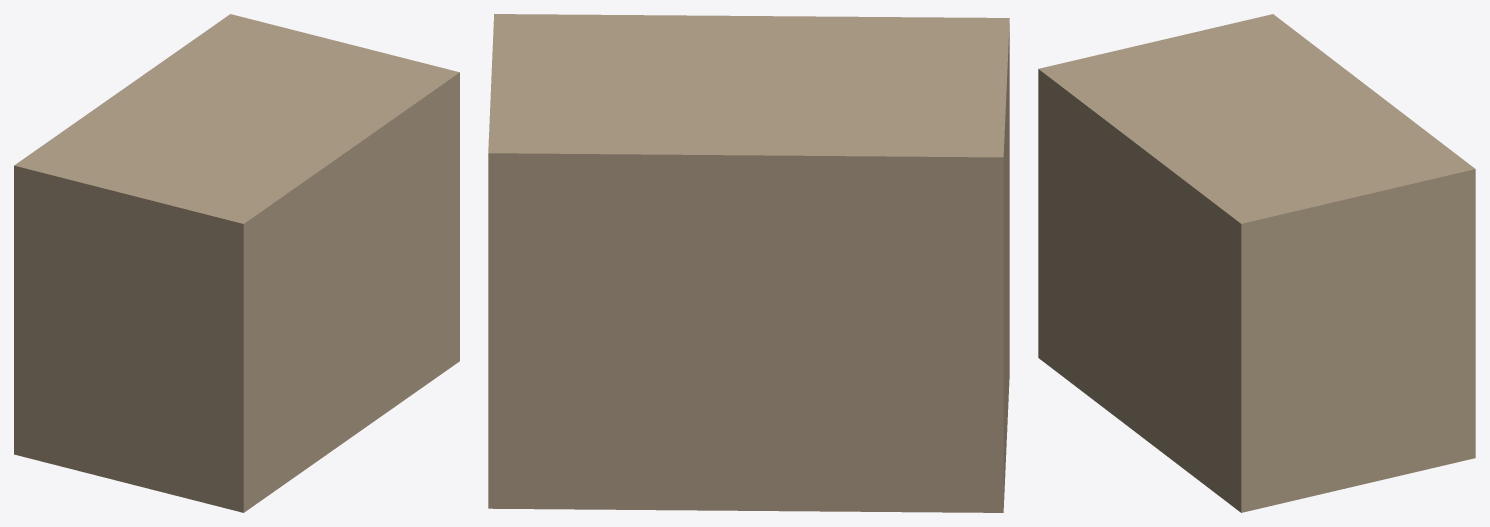
Rendered from bld_101791721.dae.
The picture shows the model from 3 angles, left to right: view 1: azimuth 30°, elevation 25°; view 2: azimuth 150°, elevation 25°; view 3: azimuth 270°, elevation 25°; orthographic projection. The views are drawn at different scales.
Parts seen in each view (by area): view 1: bld_101791721; view 2: bld_101791721; view 3: bld_101791721.
Boxes of the visible parts, x1=… form: bld_101791721: x1=14, y1=14, x2=459, y2=512; bld_101791721: x1=488, y1=14, x2=1009, y2=512; bld_101791721: x1=1038, y1=14, x2=1475, y2=512.
Bounding box in the file's own units: 12.46 × 10.97 × 8.
